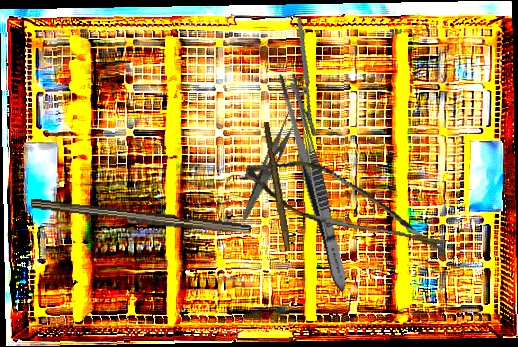Dressing Forceps: (273, 69, 355, 294), (241, 103, 304, 225)
Micro Scissor: (237, 152, 458, 254)
Needle Holder: (274, 17, 340, 138)
Scalpel Handle: (29, 198, 253, 238), (260, 121, 295, 252)
